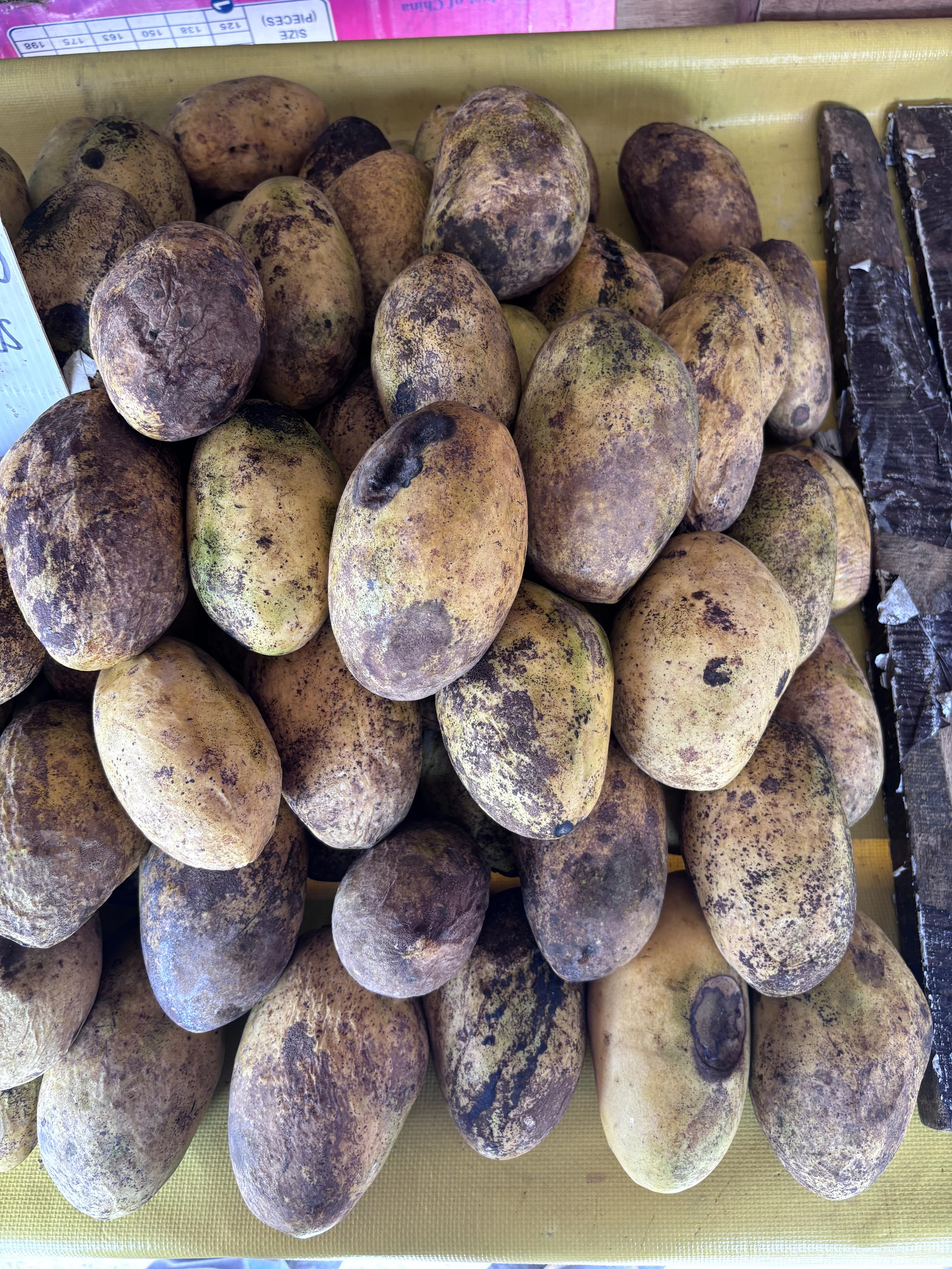mango: (328, 401, 526, 700), (514, 308, 698, 603), (612, 532, 799, 790), (187, 400, 343, 654), (90, 222, 265, 440), (332, 821, 489, 997)
occluded: (229, 929, 428, 1238), (38, 934, 223, 1220), (750, 911, 932, 1199), (0, 390, 187, 670), (588, 872, 750, 1192), (681, 717, 855, 996), (436, 582, 613, 839), (94, 636, 281, 869), (424, 889, 584, 1159), (246, 619, 421, 853), (140, 802, 308, 1032), (514, 737, 667, 981), (0, 700, 149, 947), (423, 87, 589, 300), (231, 176, 364, 409), (372, 253, 521, 427), (658, 292, 765, 530), (14, 181, 153, 360), (728, 453, 837, 662), (776, 625, 884, 825), (163, 75, 328, 200), (676, 245, 790, 423), (619, 123, 761, 264), (327, 149, 431, 334), (0, 915, 102, 1090), (754, 240, 831, 442), (782, 443, 871, 616), (67, 115, 195, 227), (532, 224, 664, 330), (298, 116, 390, 191), (0, 551, 45, 704)
